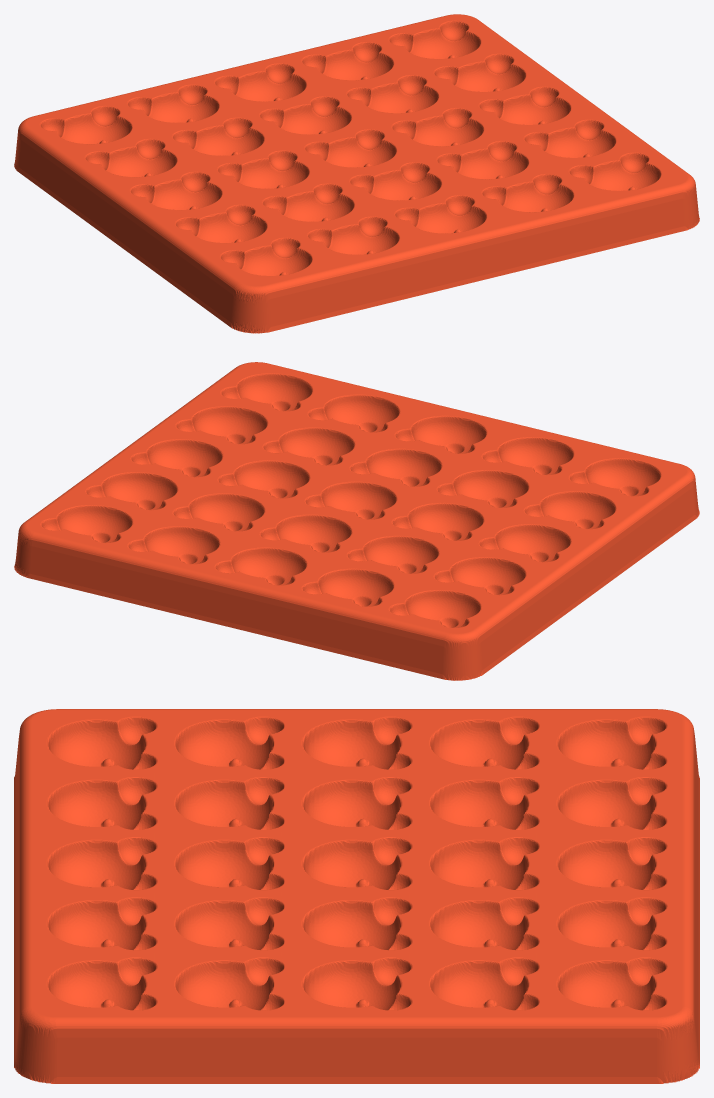
Rendered from mold.glb.
3 renders of one model, top to bottom at view 1: azimuth 30°, elevation 25°; view 2: azimuth 150°, elevation 25°; view 3: azimuth 270°, elevation 25°, orthographic. The views are drawn at different scales.
Visible parts, largest first — view 1: geometry_0; view 2: geometry_0; view 3: geometry_0.
Boxes of the visible parts, box(x1,y1,x2,y2) form: geometry_0: box(14, 14, 699, 333); geometry_0: box(14, 362, 699, 680); geometry_0: box(14, 709, 699, 1083).
Bounding box in the file's own units: 0.1584 × 0.0136 × 0.1428.
